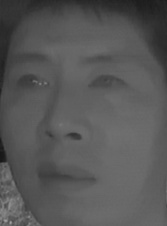eye: (86, 71, 127, 97), (14, 70, 52, 95)
mouth: (29, 156, 99, 197)
